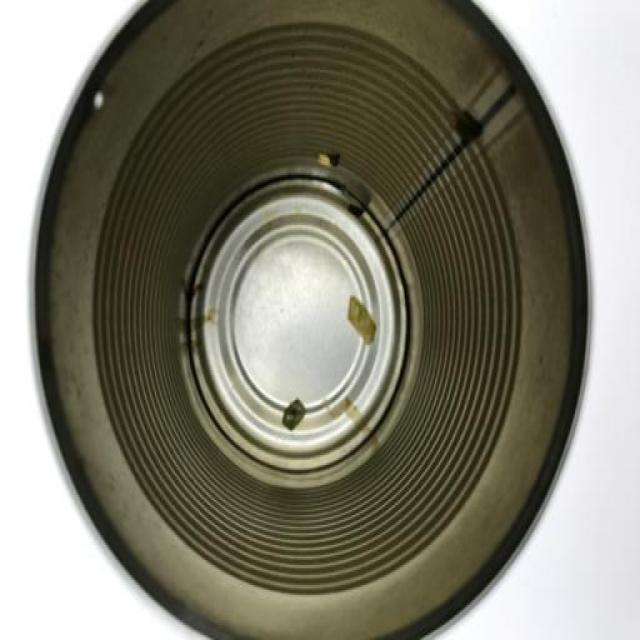metel: (27, 1, 610, 640)
